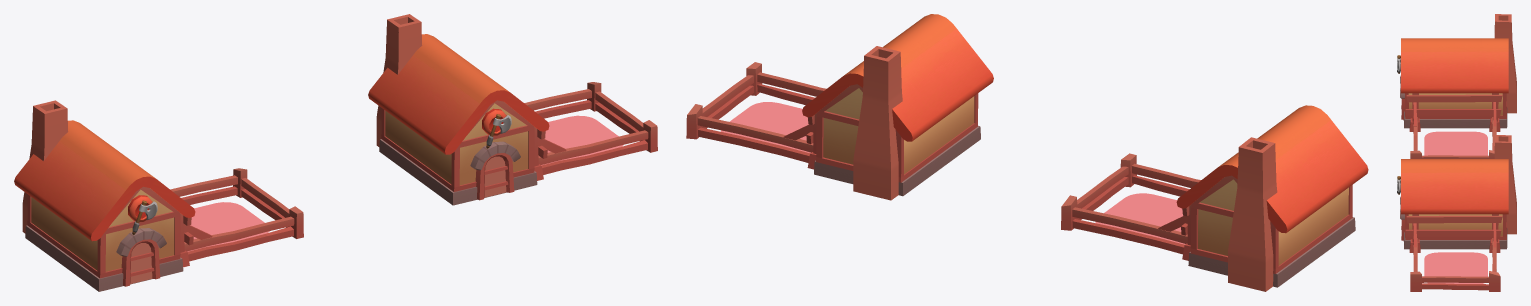
Rendered from Wood Storage.fbx.
3 renders of one model, left to right at view 1: azimuth 30°, elevation 25°; view 2: azimuth 150°, elevation 25°; view 3: azimuth 270°, elevation 25°, orthographic. The views are drawn at different scales.
Parts seen in each view (by area): view 1: Cylinder.069, Cylinder.079; view 2: Cylinder.079, Cylinder.069; view 3: Cylinder.069, Cylinder.079.
Boxes of the visible parts, left/top/right/bottom form: Cylinder.069: left=368, top=14, right=657, bottom=205; Cylinder.079: left=14, top=100, right=303, bottom=291; Cylinder.079: left=1061, top=105, right=1368, bottom=291; Cylinder.069: left=686, top=14, right=993, bottom=200; Cylinder.069: left=1397, top=135, right=1516, bottom=291; Cylinder.079: left=1397, top=14, right=1516, bottom=158.
Size of the model in its own units: 5.41 by 1.15 by 1.4.
